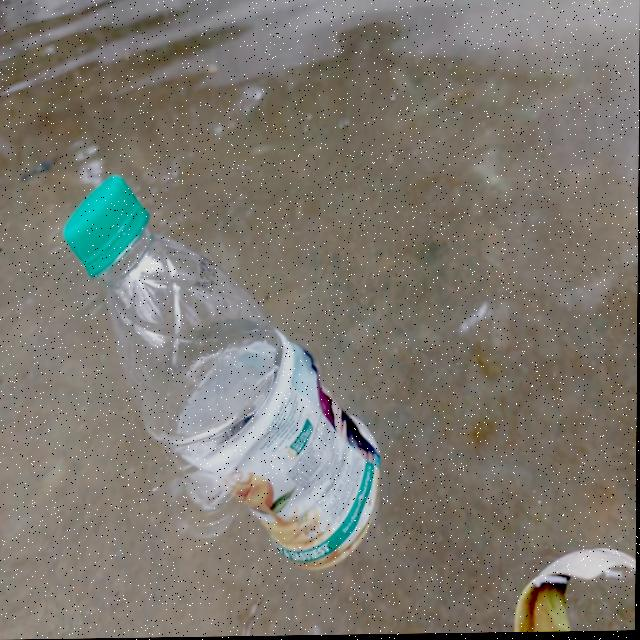waterbottle: (68, 181, 417, 563)
